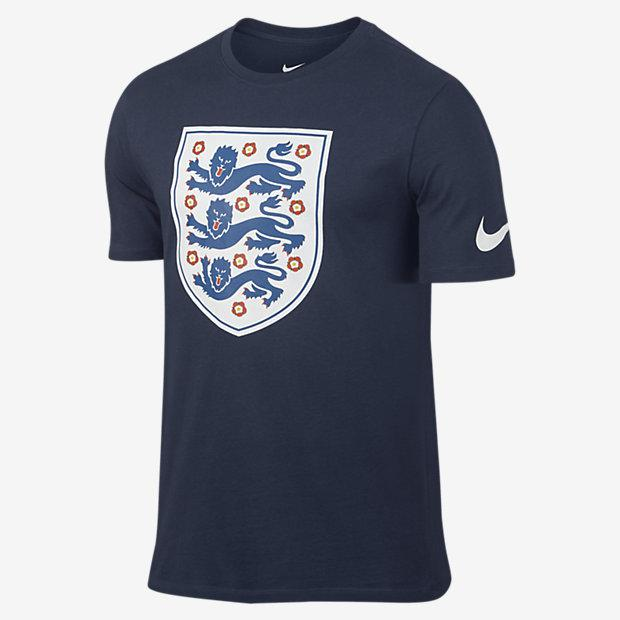teeshirt: (78, 17, 557, 620)
